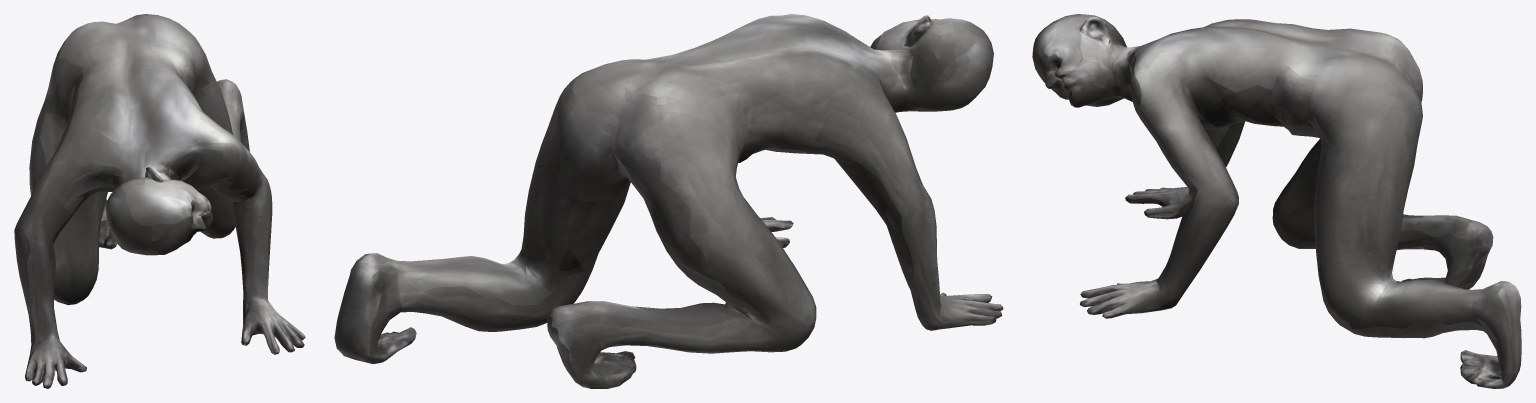
File: charge_crawl.glb
The picture shows the model from 3 angles, left to right: view 1: azimuth 30°, elevation 25°; view 2: azimuth 150°, elevation 25°; view 3: azimuth 270°, elevation 25°; orthographic projection. The views are drawn at different scales.
Visible parts, largest first — view 1: geometry_0; view 2: geometry_0; view 3: geometry_0.
Part boxes in pixels (x1,y1,x2,y2): geometry_0: (14, 14, 305, 388); geometry_0: (334, 14, 1003, 388); geometry_0: (1032, 14, 1521, 388).
Size of the model in its own units: 0.8 by 0.4703 by 0.8365.
1 material, 1 textured.
